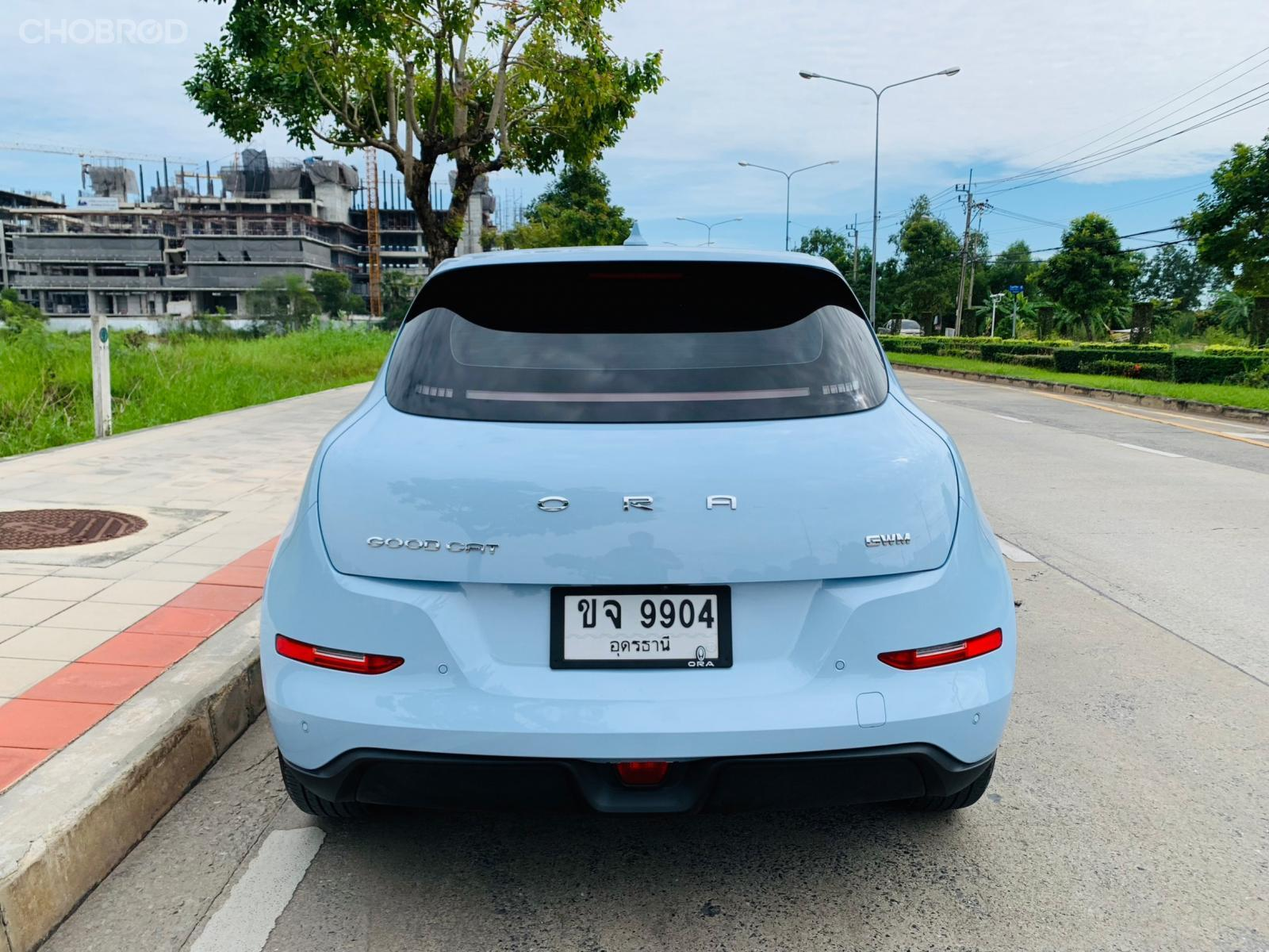license-plate: (551, 583, 733, 666)
